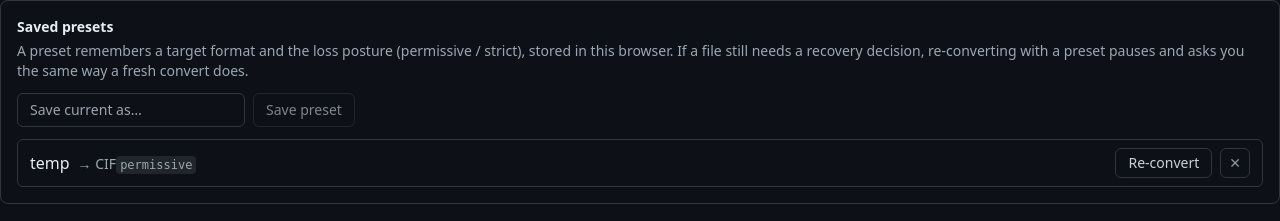
it: PresetManager › deletes a saved preset
Click the button "✕": (1235, 163) 1220,148 -> 1250,178
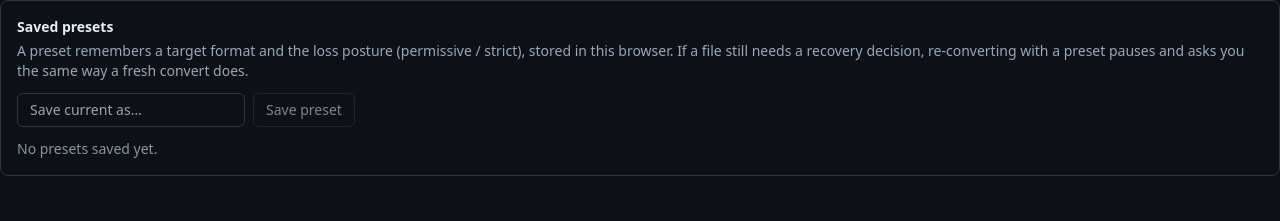
expect the text "temp" is gone: met
